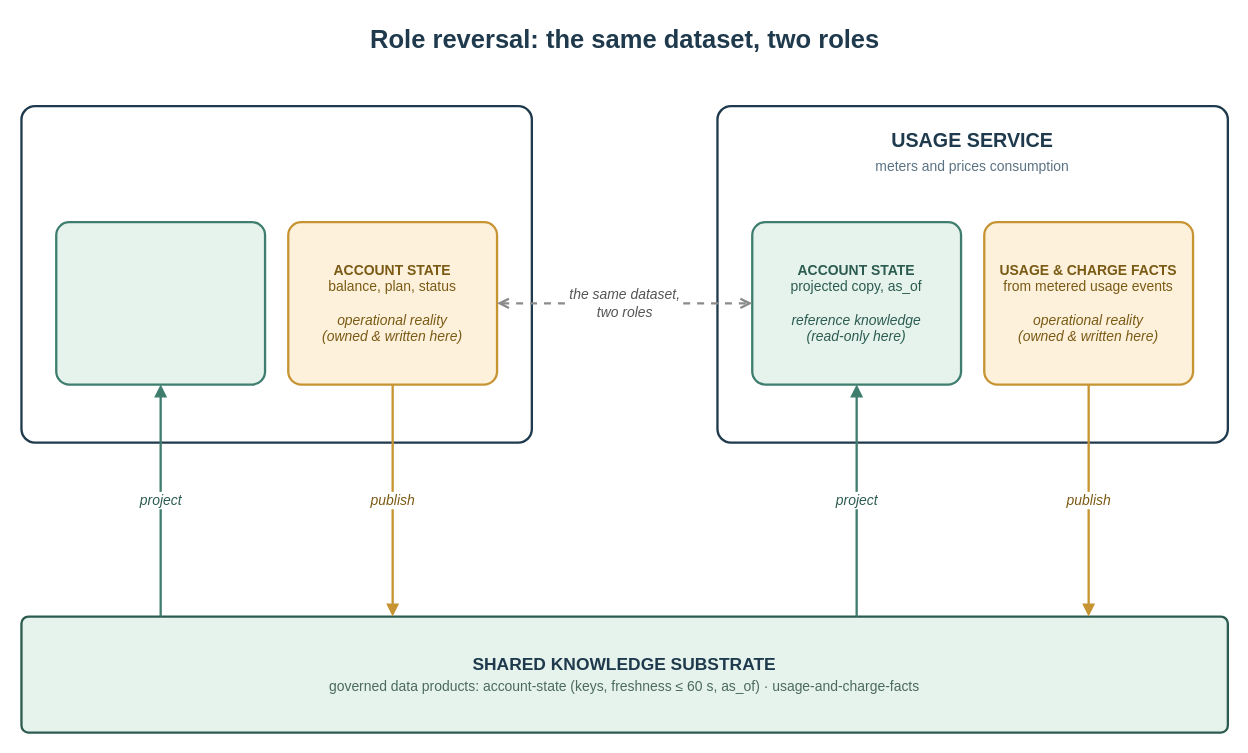
This 1248x753 diagram has some shape labels left out. The shapes that lost their labels are listed below. From the top down, each one's box as (x1, y1, x2, y2) in pixels, then its label:
(20, 104, 532, 443): ACCOUNT SERVICE owns the commercial state of accounts
(55, 220, 266, 385): USAGE & CHARGE FACTS projected copy reference knowledge (read-only here)
